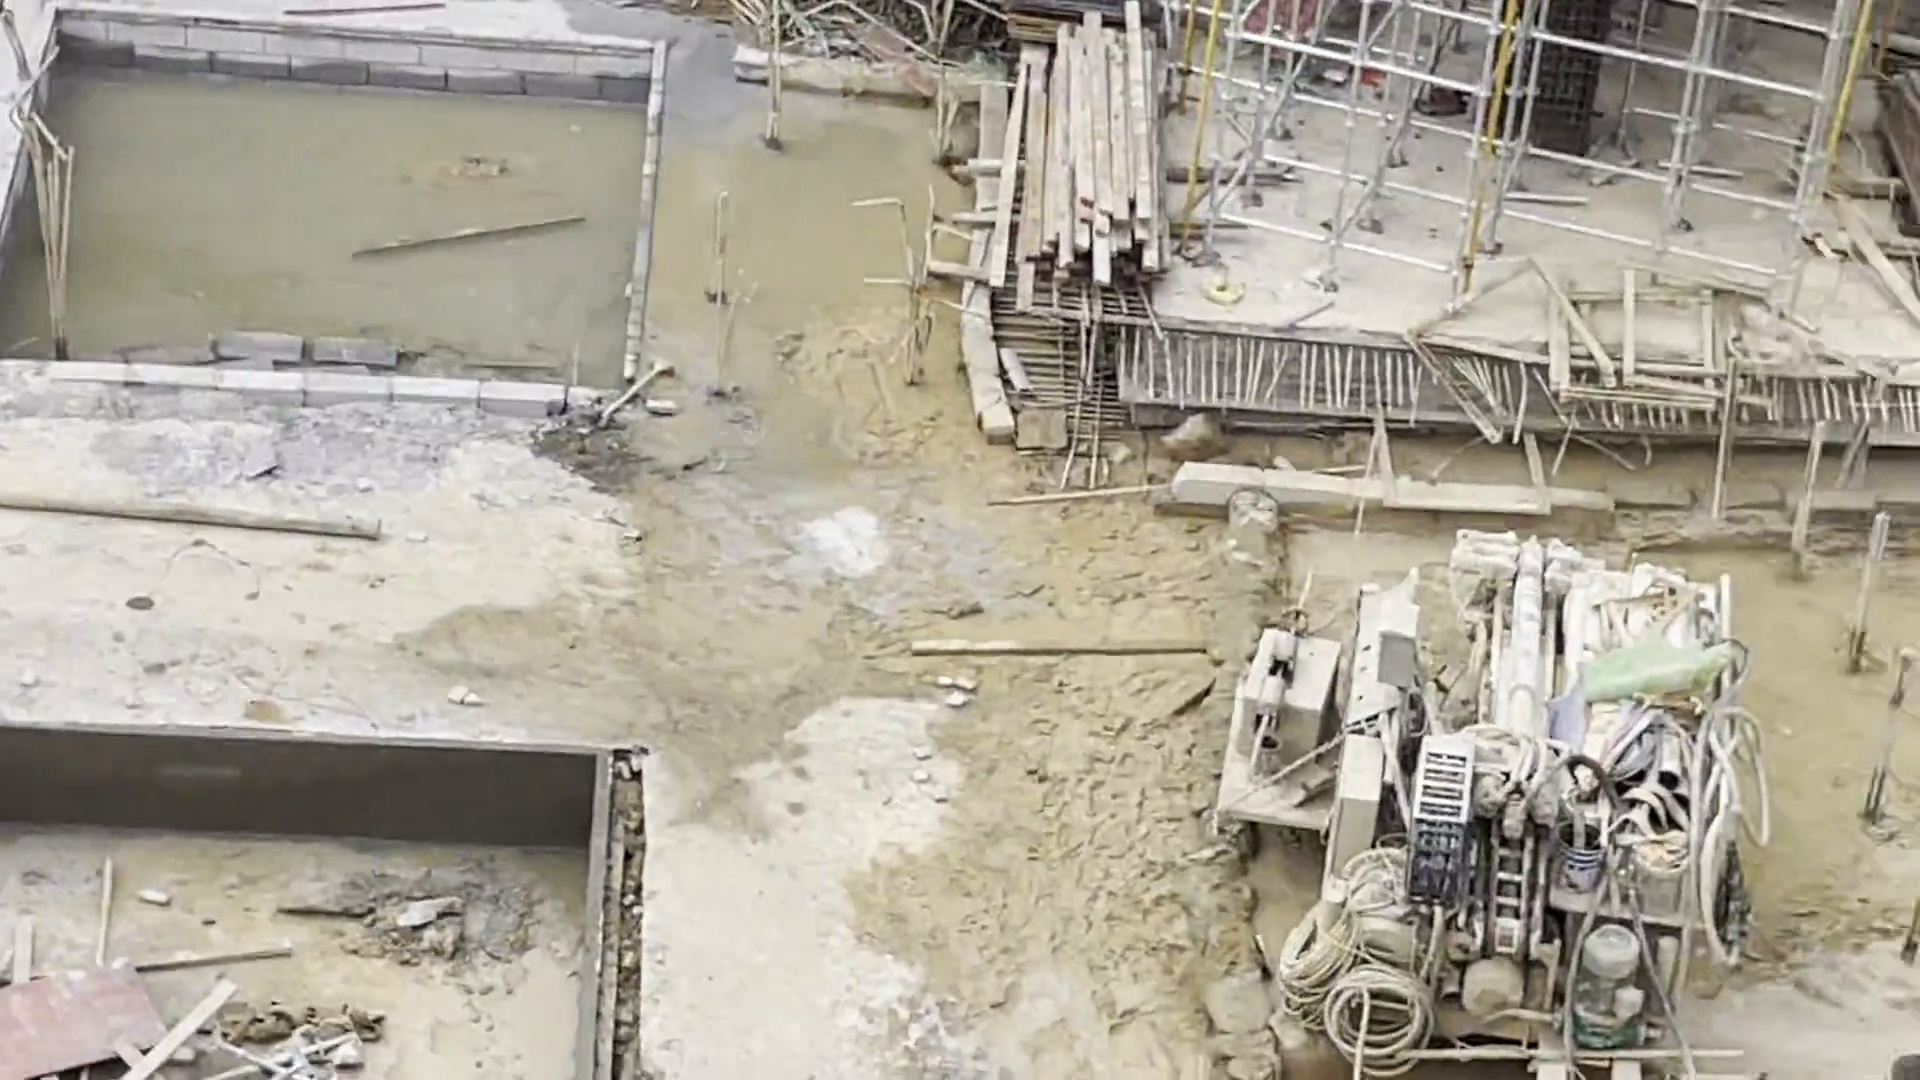wood: (978, 1, 1166, 316)
